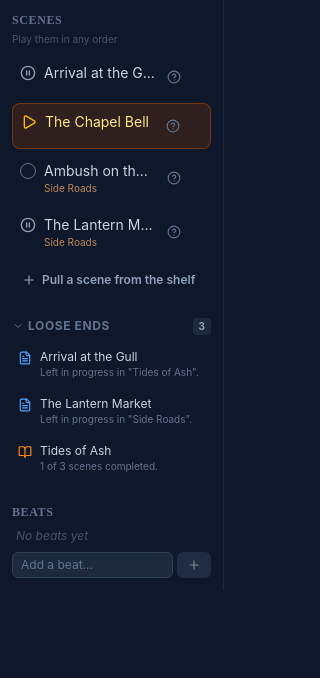
Test case: 3. The shelf › an empty shelf is a sentence, not an error
What coordinates should you click on to do the following:
click the button "Pull a scene from the shelf"
I would click on:
 (112, 280)
Its box is [12, 266, 211, 294].
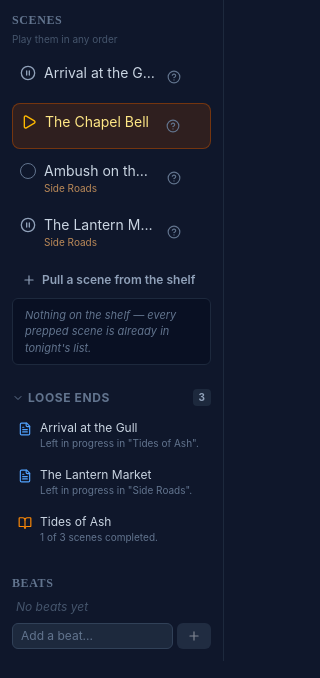
Check: the text "Nothing on the shelf" is shown, box [25, 308, 176, 355]
